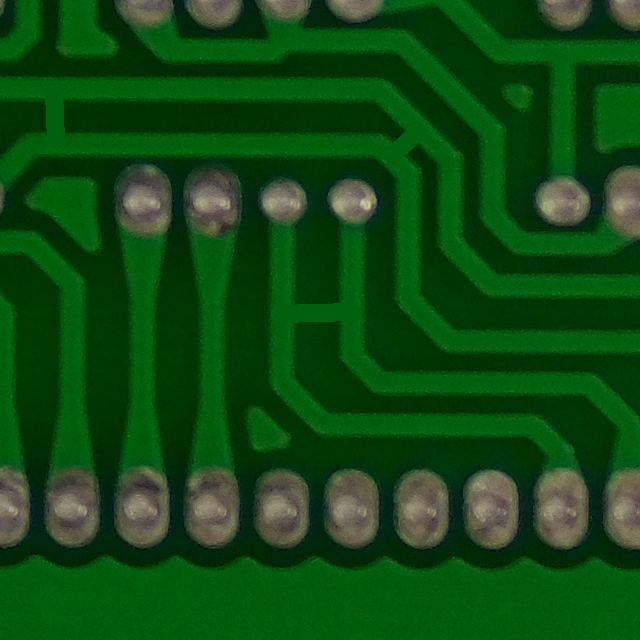short: (261, 276, 380, 365), (10, 64, 110, 162), (363, 110, 446, 184)
